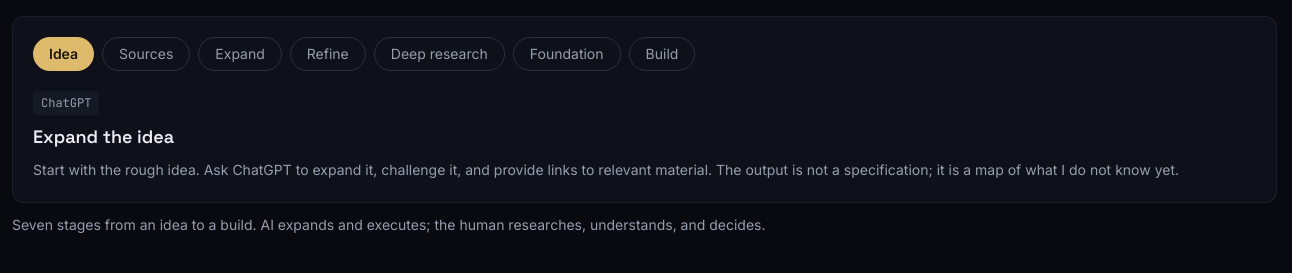
Test: AIWorkflowTimeline › shows the build stage when selected
The width and height of the screenshot is (1292, 273).
Click the button with test id "stage-build". click: (662, 54)
box: [628,37,695,71]
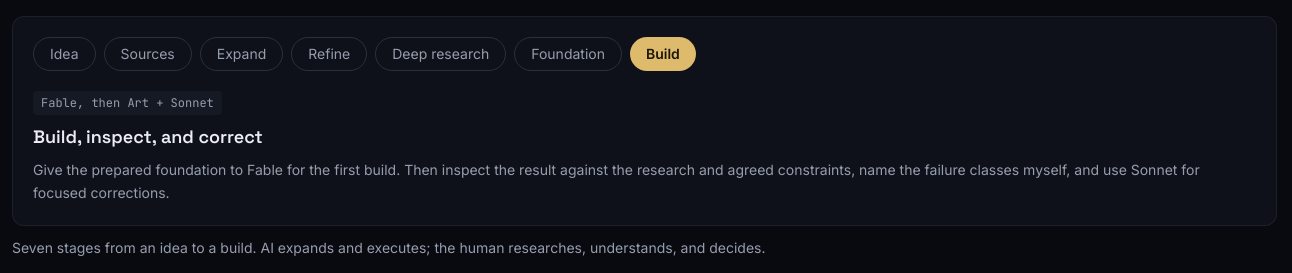
Expected: the text with test id "stage-detail" shows "prepared foundation to Fable", [33,161,1200,201]
